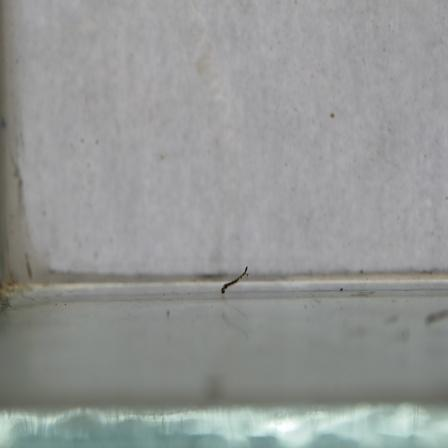Jentik-Nyamuk: (217, 263, 252, 297)
